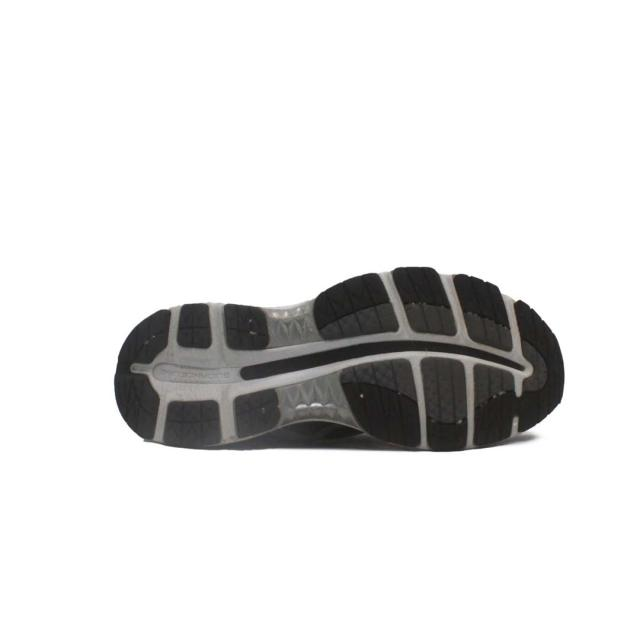outersole: (114, 266, 567, 449)
